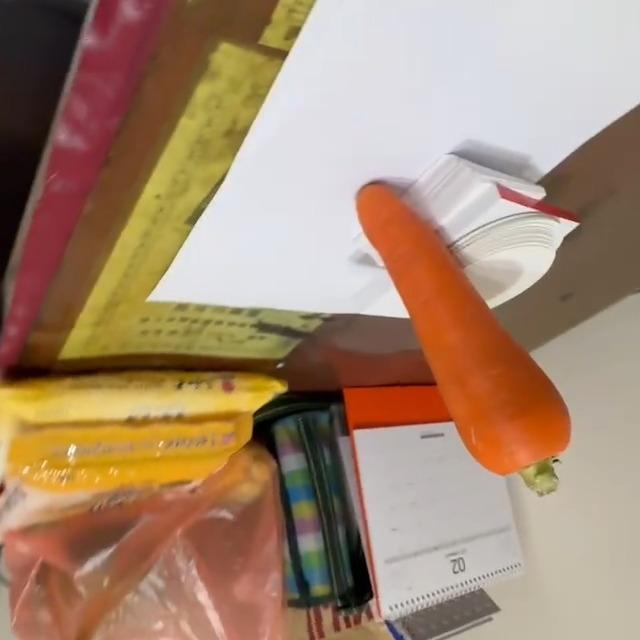carrot: (353, 178, 577, 500)
